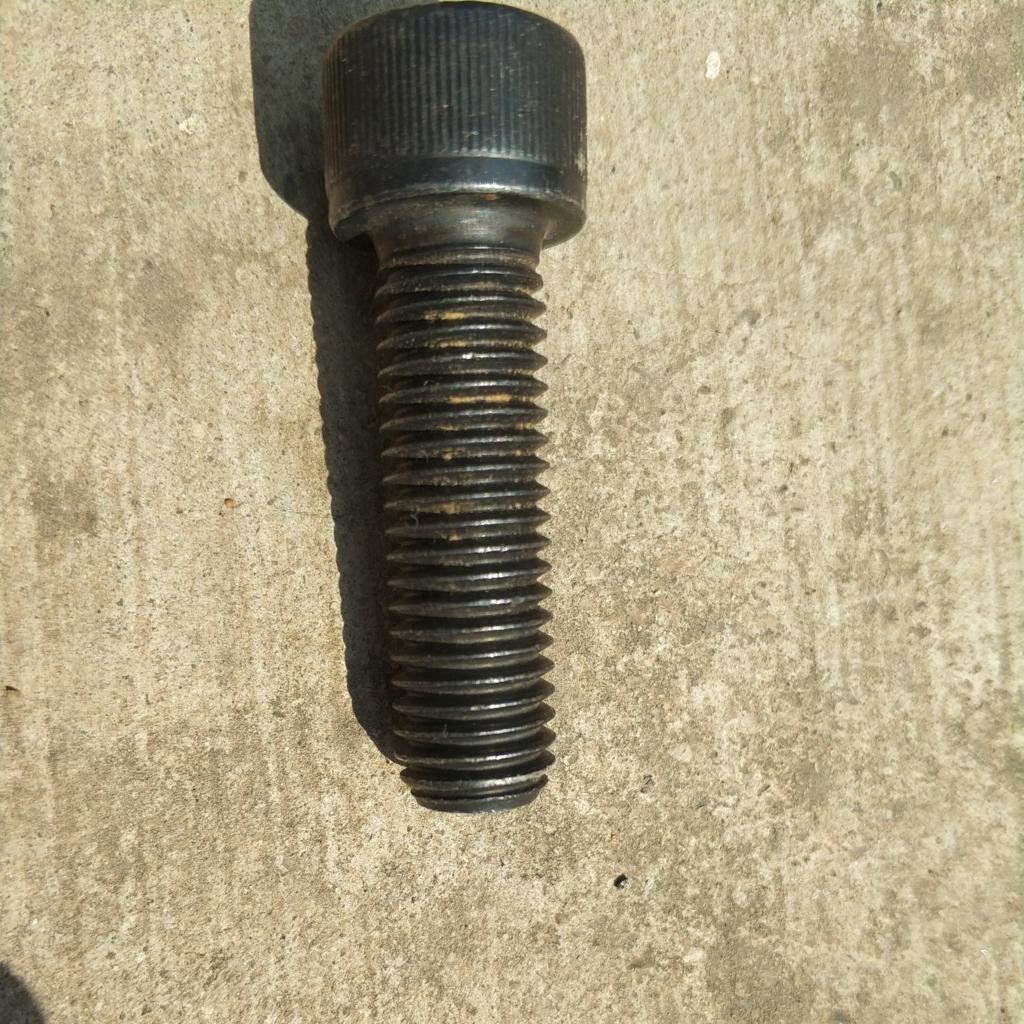screwtype1black: (287, 4, 630, 817)
